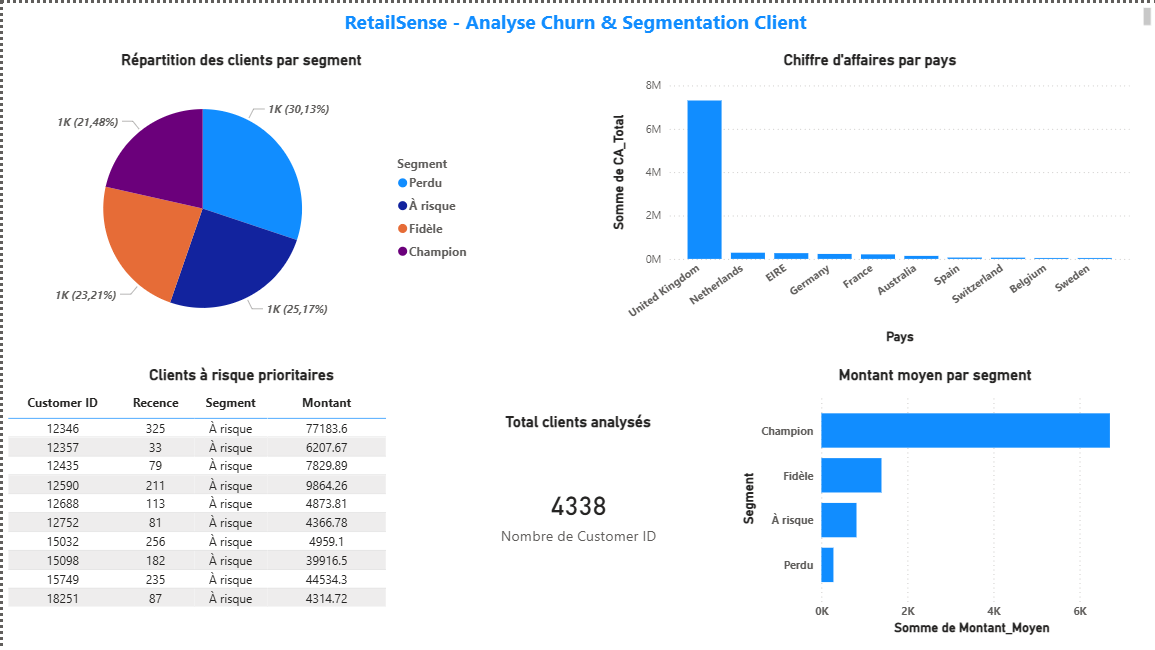

The dashboard page shown, as its layout file describes it:
{"tool":"powerbi","page":{"name":"Page 1","canvas":[1280,720],"ordinal":0},"visuals":[{"type":"pieChart","title":"Répartition des clients par segment","fields":{"Category":["segments.Segment"],"Y":["Sum(segments.Nb_Clients)"]},"box":[0,53.3,530,330],"z":0},{"type":"clusteredColumnChart","title":"Chiffre d''affaires par pays","fields":{"Category":["top_pays.Country"],"Y":["Sum(top_pays.CA_Total)"]},"box":[670,53.3,586.7,330],"z":1000},{"type":"tableEx","title":"Clients à risque prioritaires","fields":{"Values":["clients_risque_haute_valeur.Customer ID","clients_risque_haute_valeur.Recence","clients_risque_haute_valeur.Segment","clients_risque_haute_valeur.Montant"]},"box":[0,403.3,530,303.3],"z":2000},{"type":"actionButton","box":[0,0,100,40],"z":3000},{"type":"card","title":"Total clients analysés","fields":{"Values":["CountNonNull(rfm_clients.Customer ID)"]},"box":[510,455,258.3,200],"z":4000},{"type":"textbox","box":[0,0,1280,40],"z":5000},{"type":"clusteredBarChart","title":"Montant moyen par segment","fields":{"Y":["Sum(segments.Montant_Moyen)"],"Category":["segments.Segment"]},"box":[815,403.3,441.7,303.3],"z":6000}]}

Visuals, with their boxes in screenshot pixels (x1, y1, x2, y2), scaled from the page's 1280x720 canvas onto the 1155x650 screenshot:
"Répartition des clients par segment" pieChart: crop(0, 48, 478, 346)
"Chiffre d''affaires par pays" clusteredColumnChart: crop(605, 48, 1134, 346)
"Clients à risque prioritaires" tableEx: crop(0, 364, 478, 638)
actionButton: crop(0, 0, 90, 36)
"Total clients analysés" card: crop(460, 411, 693, 591)
textbox: crop(0, 0, 1154, 36)
"Montant moyen par segment" clusteredBarChart: crop(735, 364, 1134, 638)
